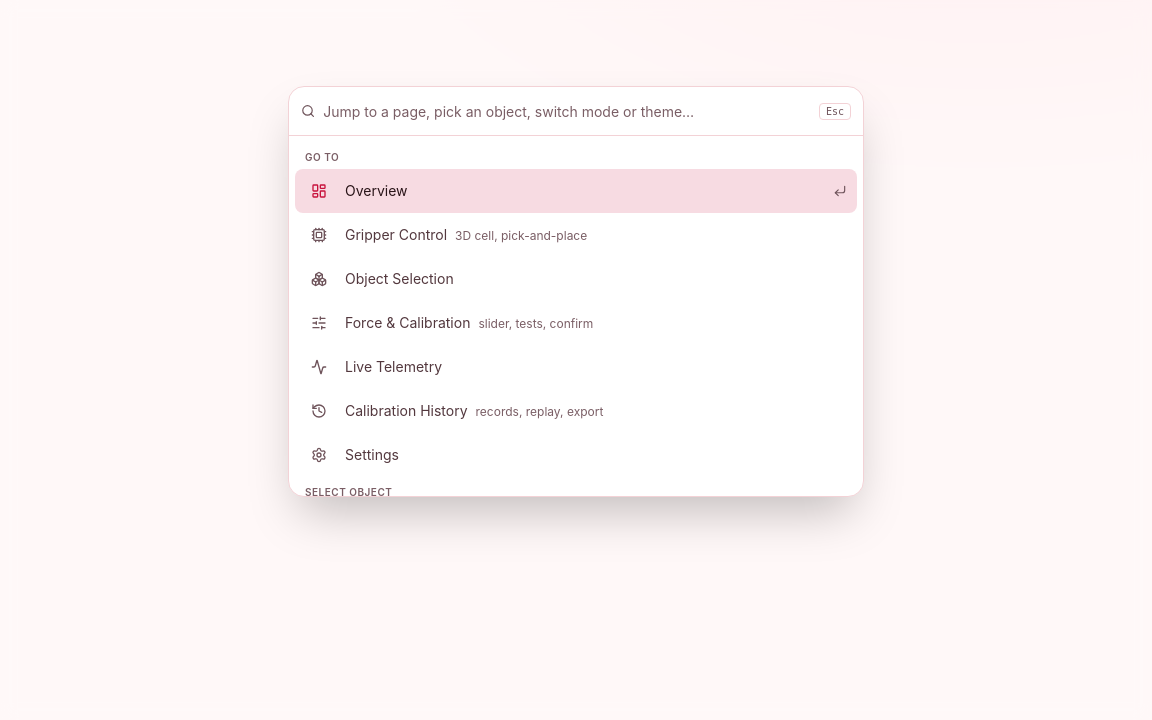
Test: command palette › moves the selection with the arrow keys and skips disabled commands
The image size is (1152, 720).
Type "switch to" into the dropdown at x=567, y=111, box 323,87 -> 811,135
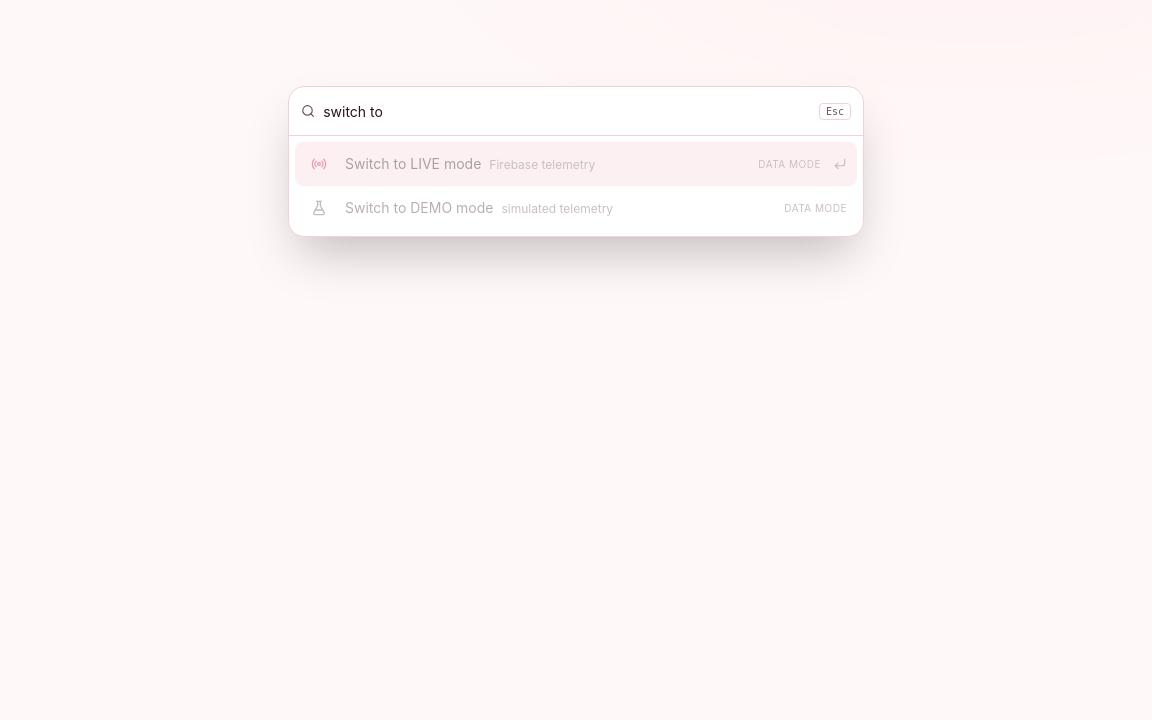
Press ArrowDown in the dropdown, box 323,87 -> 811,135
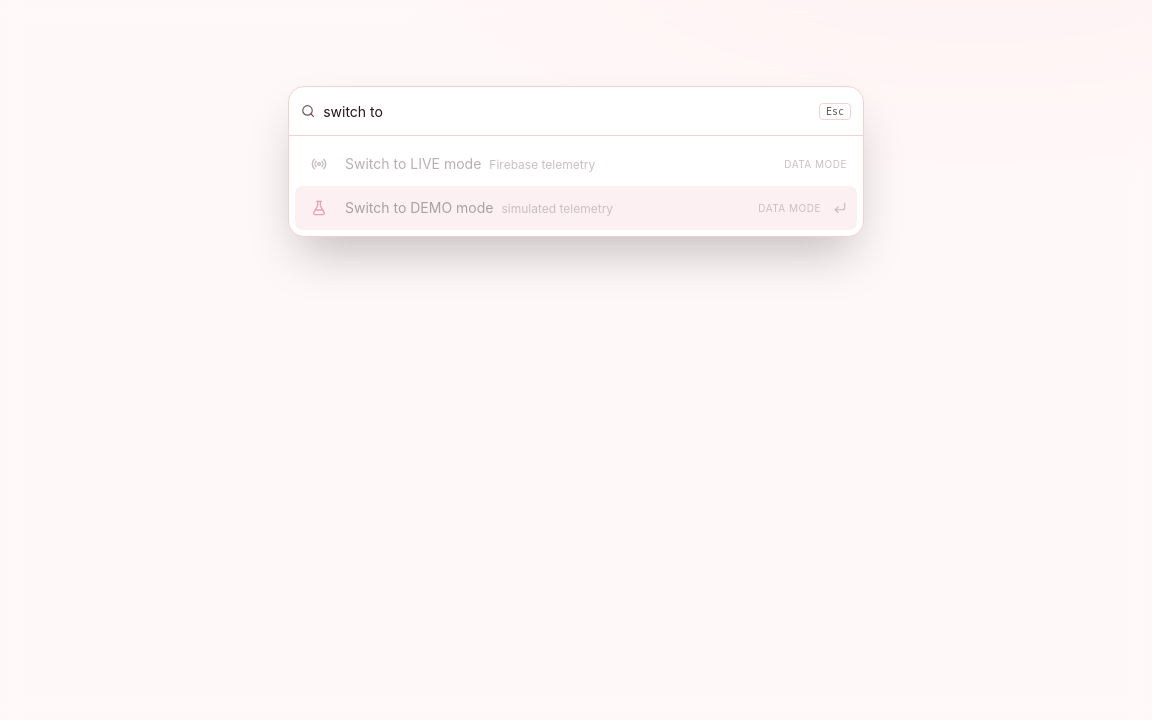
Check: the option that starts with "Switch to DEMO mode" is selected, box 295,186 -> 857,230
